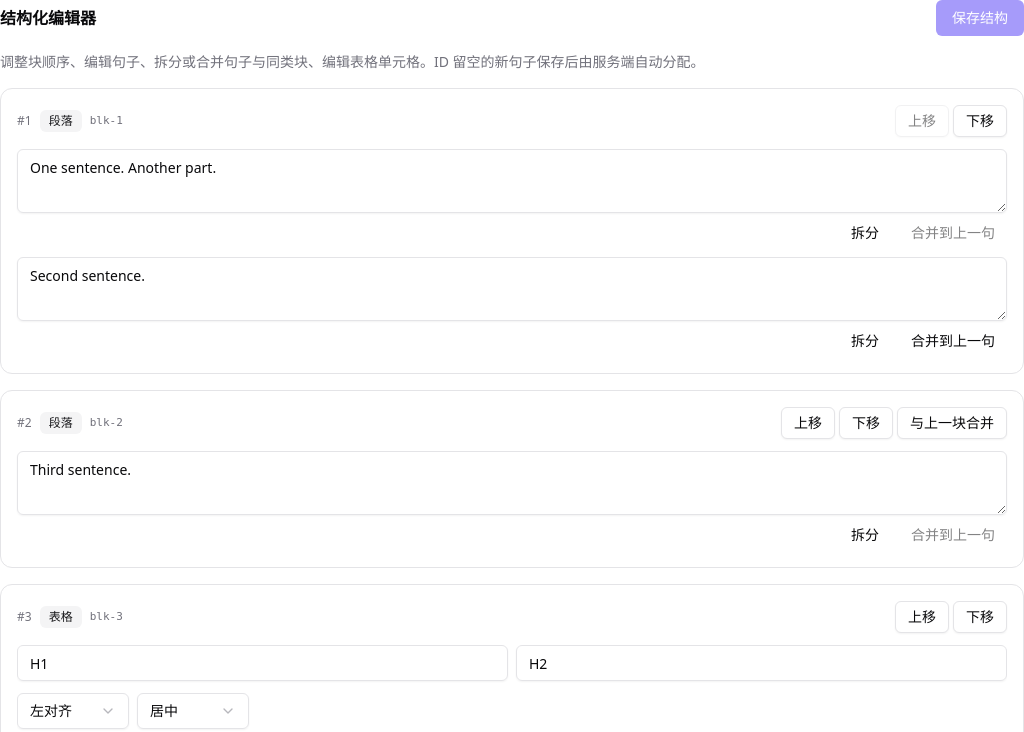
Scenario: BlockListEditor · 句级编辑 › blocks save with an in-page alert when a sentence is empty
Clear the text box named "句子 1-1". click: (512, 181)
box: [17,149,1007,213]
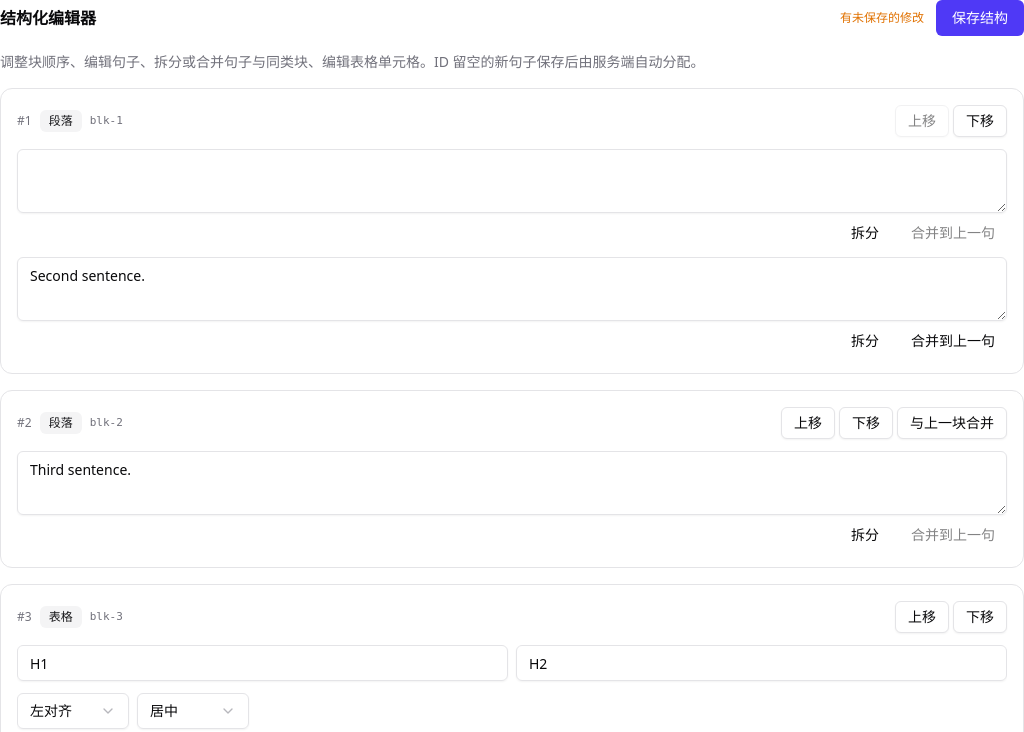
Click the button "保存结构". click: (980, 18)
box: [936,0,1023,36]
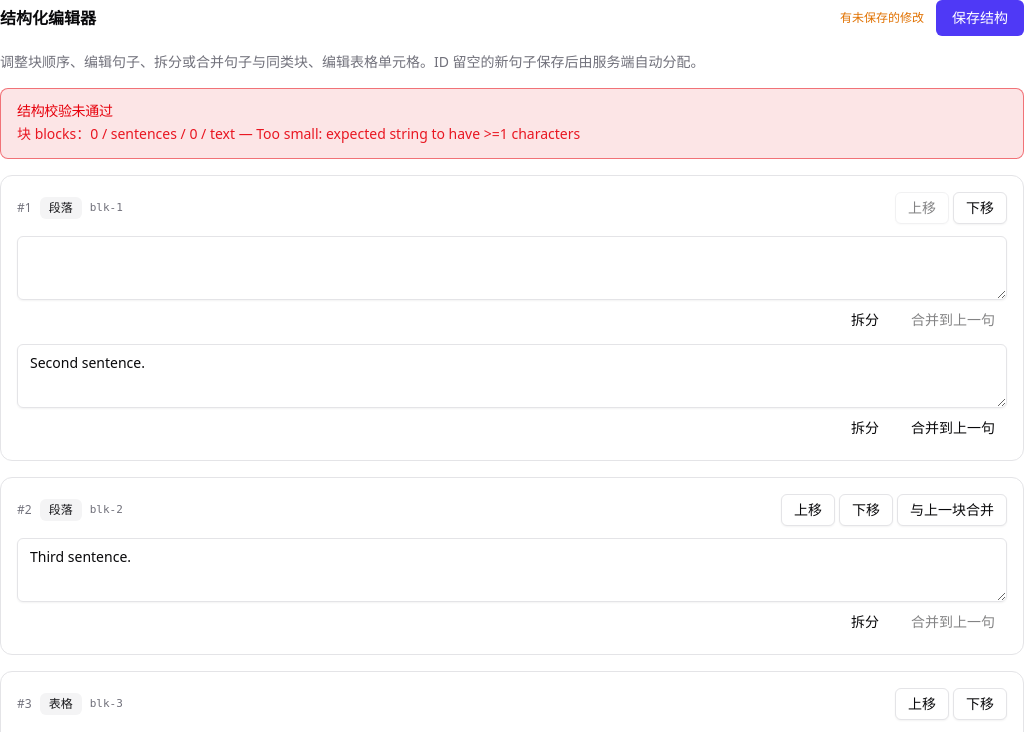
Result: the message shows "结构校验未通过" at [17,101,113,120]
